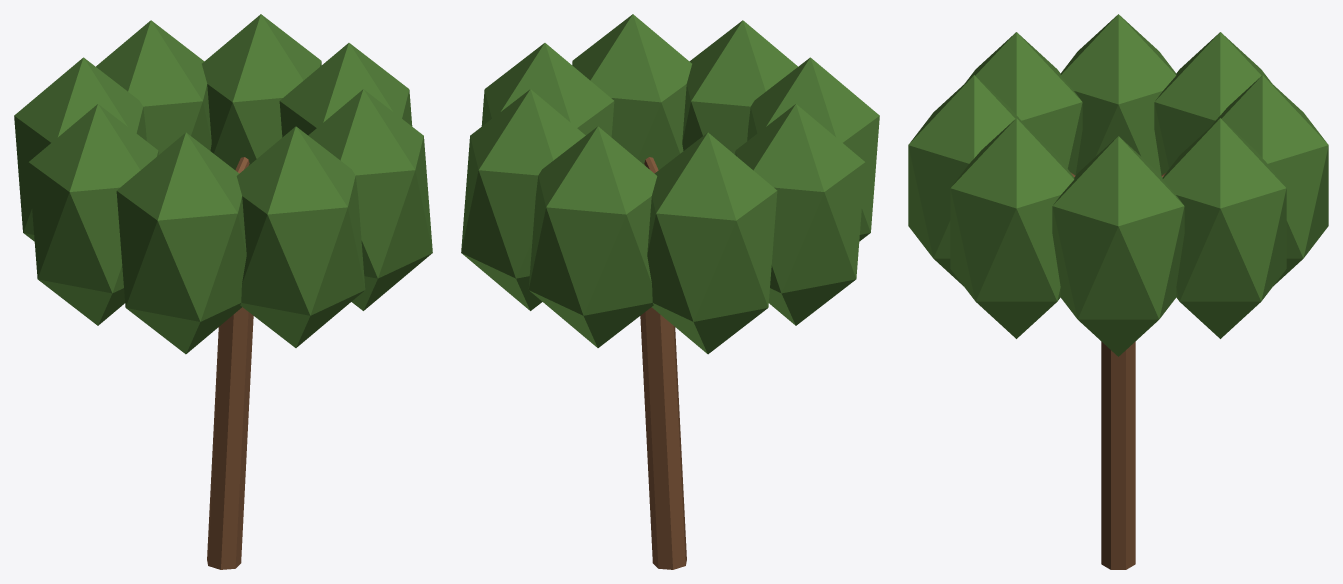
Rendered from tree_09.glb.
3 renders of one model, left to right at view 1: azimuth 30°, elevation 25°; view 2: azimuth 150°, elevation 25°; view 3: azimuth 270°, elevation 25°, orthographic.
Parts seen in each view (by area): view 1: tree_09; view 2: tree_09; view 3: tree_09.
Boxes of the visible parts, x1,y1,x2,y2 form: tree_09: (14,14,432,569); tree_09: (461,14,879,569); tree_09: (908,14,1328,569).
Bounding box in the file's own units: 1.69 × 2.14 × 1.67.
